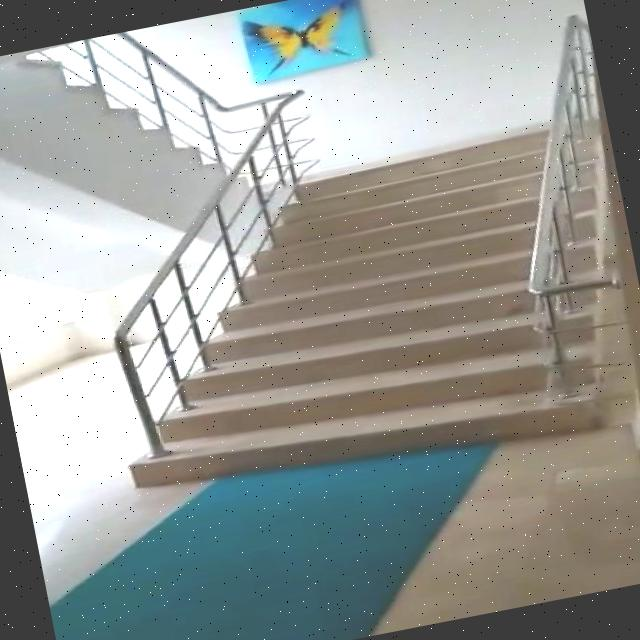stairs: (81, 120, 640, 516)
